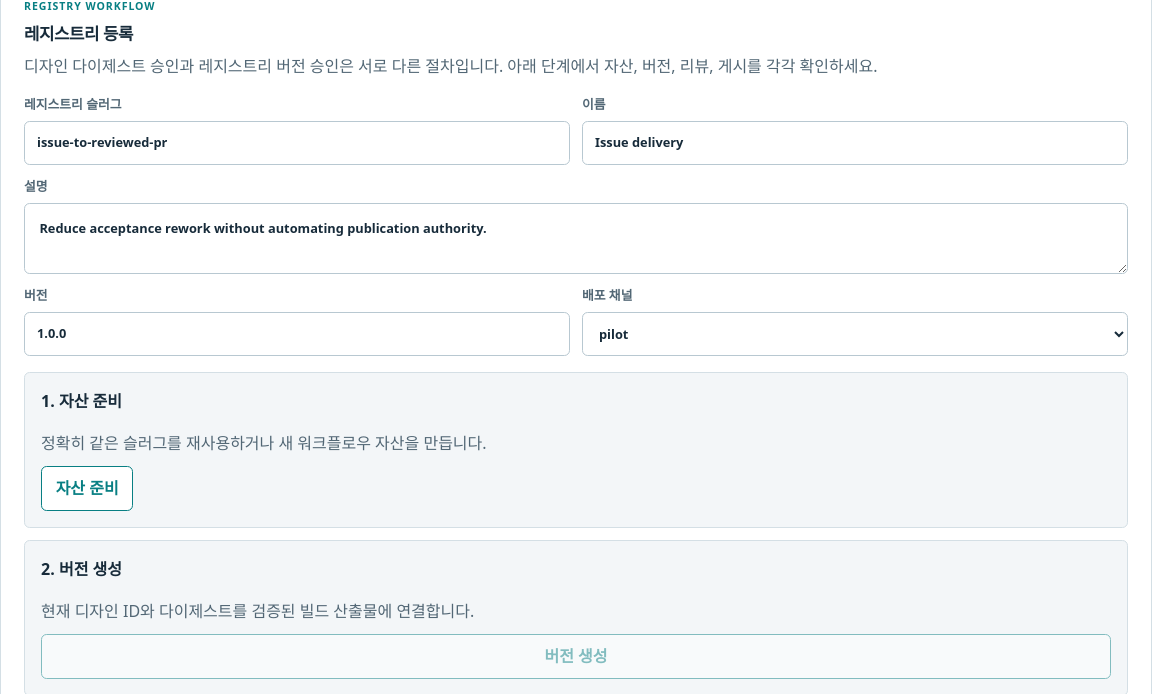
RegistryPublishPanel › recovers a duplicate only after verifying its manifest matches
Click the button "자산 준비".
click(87, 489)  # box x1=41 y1=466 x2=133 y2=511
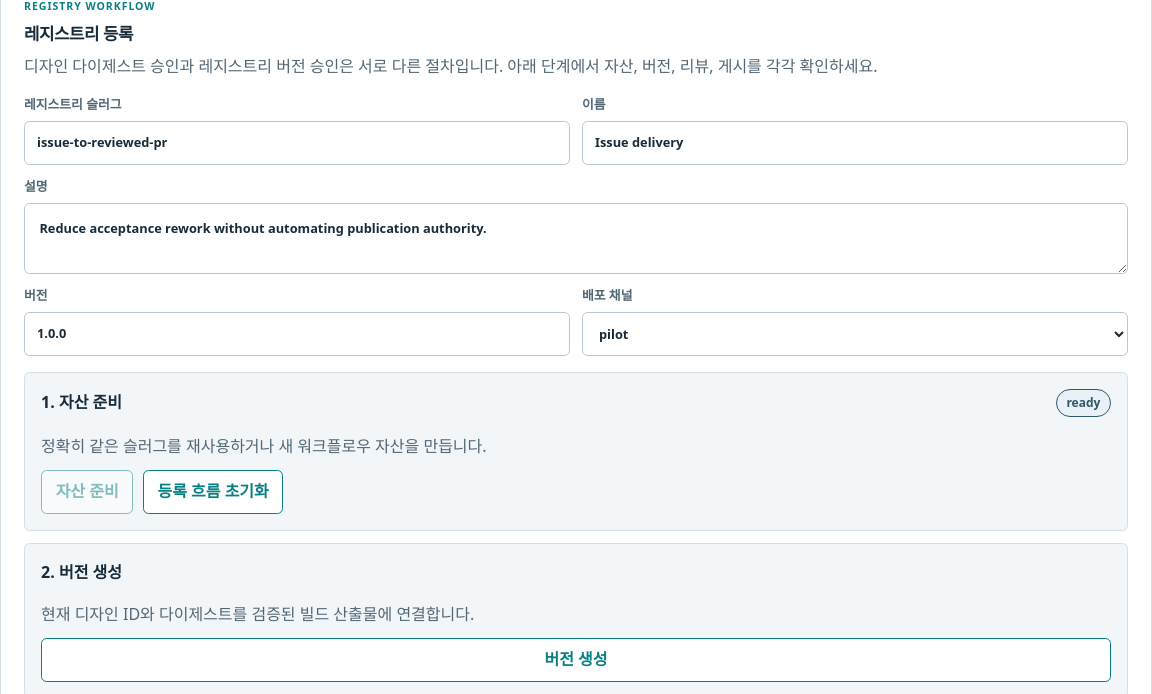
Click the button "버전 생성".
click(576, 660)  # box x1=41 y1=638 x2=1111 y2=682
(page scrolled)
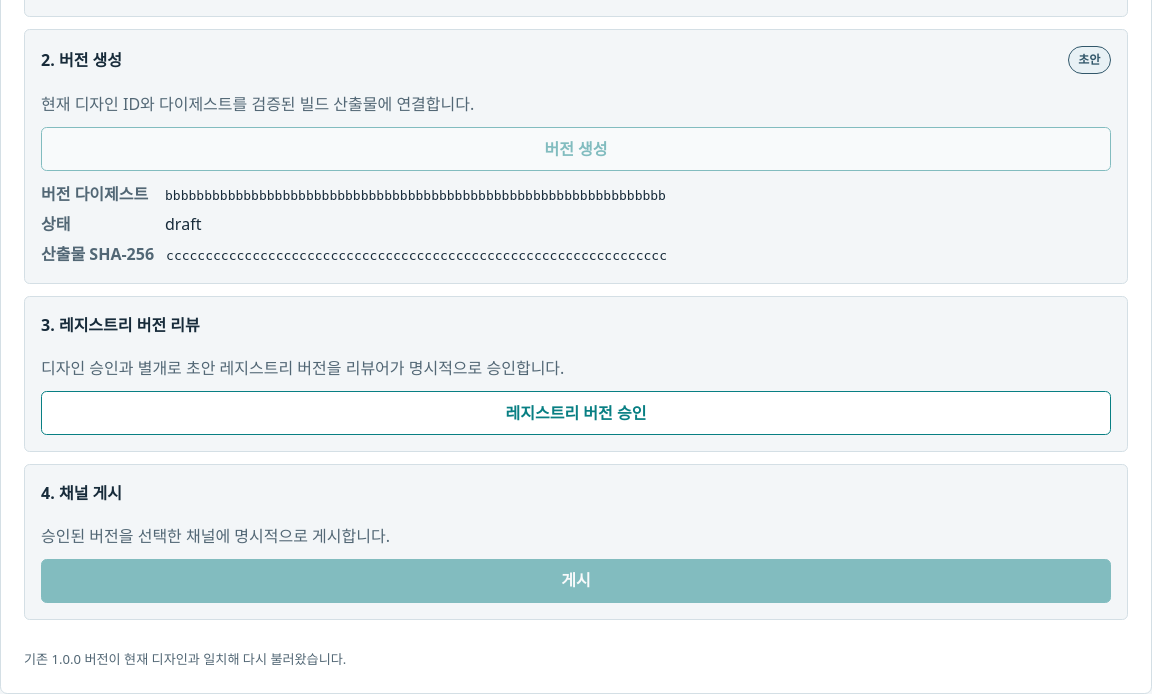
Expected: the text "기존 1.0.0 버전이 현재 디자인과 일치해 다시 불러왔습니다." is shown, x1=24 y1=650 x2=346 y2=668
Expected: the button "레지스트리 버전 승인" is enabled, x1=41 y1=391 x2=1111 y2=435
